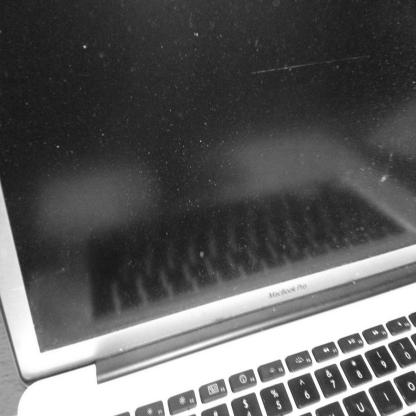board: (0, 2, 416, 416)
